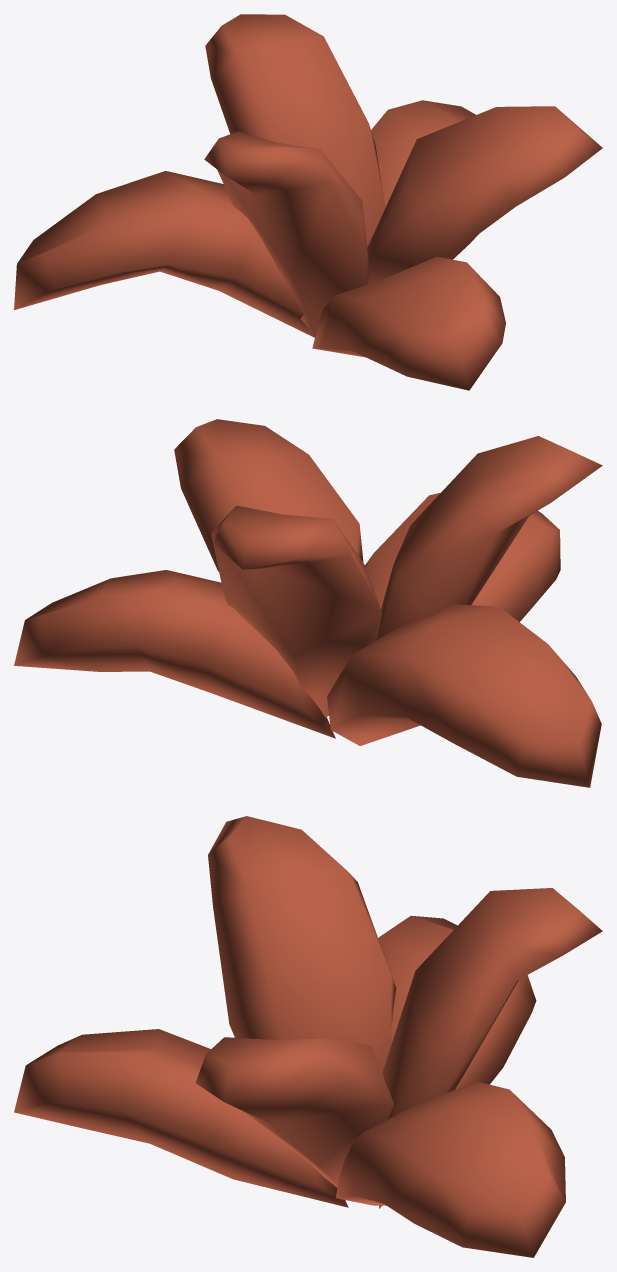
File: Plant_C_01_LOD2.gltf
3 views of the same model, one above another, from view 1: azimuth 30°, elevation 25°; view 2: azimuth 150°, elevation 25°; view 3: azimuth 270°, elevation 25° (orthographic). The views are drawn at different scales.
Visible parts, largest first — view 1: Plant_C_01_LOD2_Cube.705; view 2: Plant_C_01_LOD2_Cube.705; view 3: Plant_C_01_LOD2_Cube.705.
Part boxes in pixels (x1,y1,x2,y2): Plant_C_01_LOD2_Cube.705: [14, 14, 602, 390]; Plant_C_01_LOD2_Cube.705: [14, 419, 602, 787]; Plant_C_01_LOD2_Cube.705: [14, 816, 602, 1257].
Bounding box in the file's own units: 6.32 × 3.22 × 5.6.
Materials: 1 (1 with a texture image).
